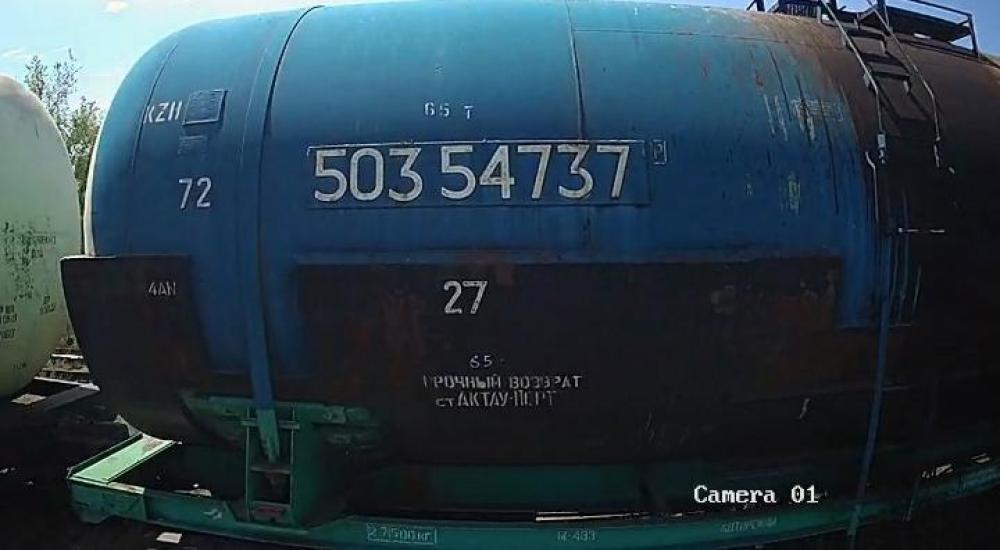Wagon-number: (304, 142, 648, 208)
